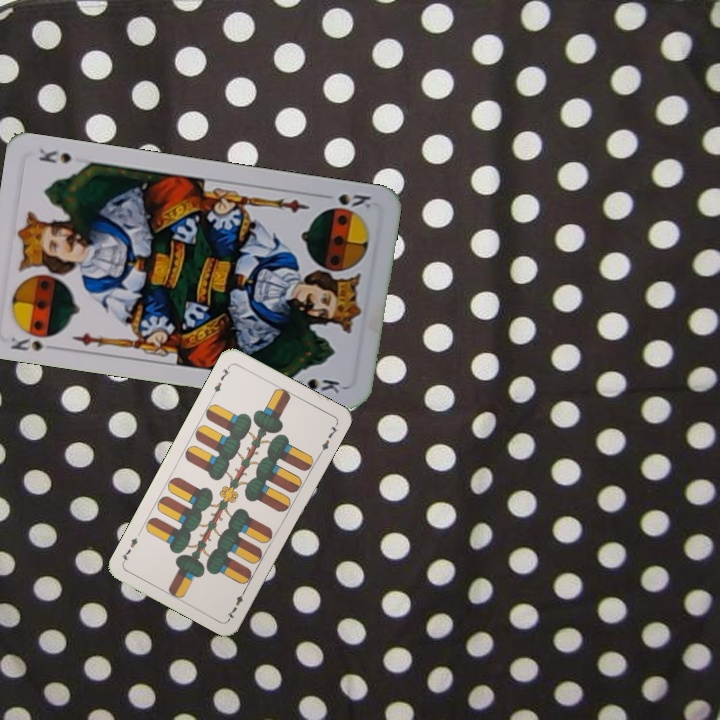E7: (222, 584, 249, 622), (208, 361, 233, 399)
SK: (6, 332, 61, 354), (334, 189, 376, 211)
